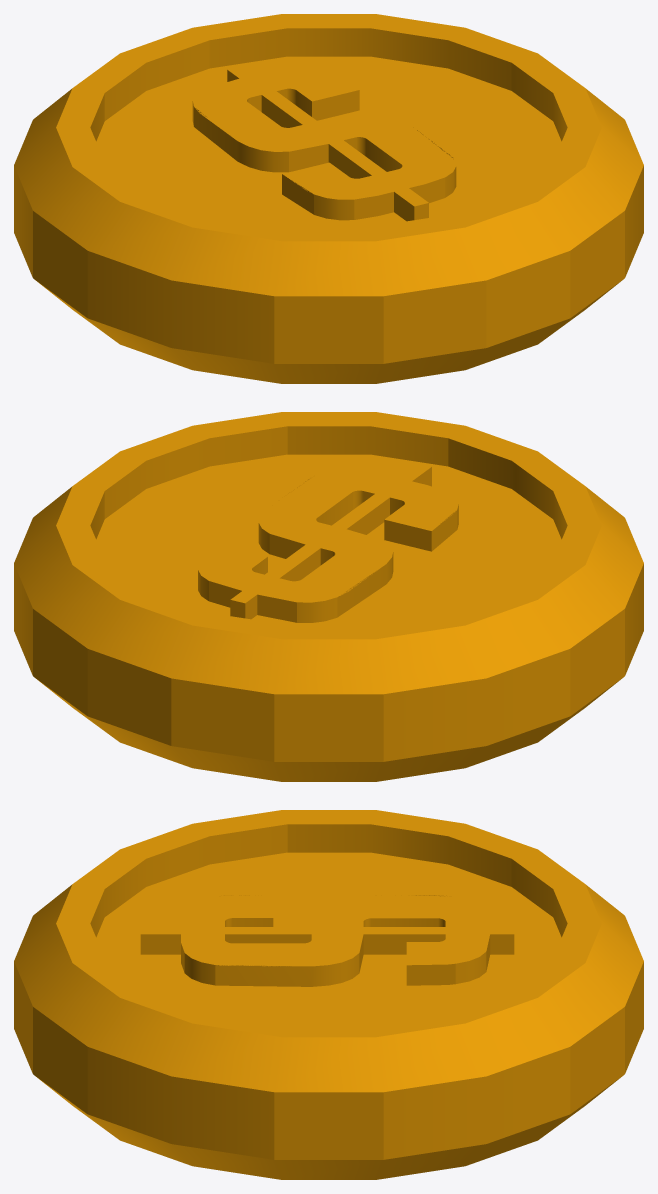
Rendered from goldcoin.glb.
3 views of the same model, one above another, from view 1: azimuth 30°, elevation 25°; view 2: azimuth 150°, elevation 25°; view 3: azimuth 270°, elevation 25° (orthographic).
Visible parts, largest first — view 1: Coin; view 2: Coin; view 3: Coin.
Boxes of the visible parts, x1,y1,x2,y2 form: Coin: [14, 14, 643, 383]; Coin: [14, 412, 643, 781]; Coin: [14, 810, 643, 1179].
Size of the model in its own units: 0.5909 by 0.15 by 0.6.
